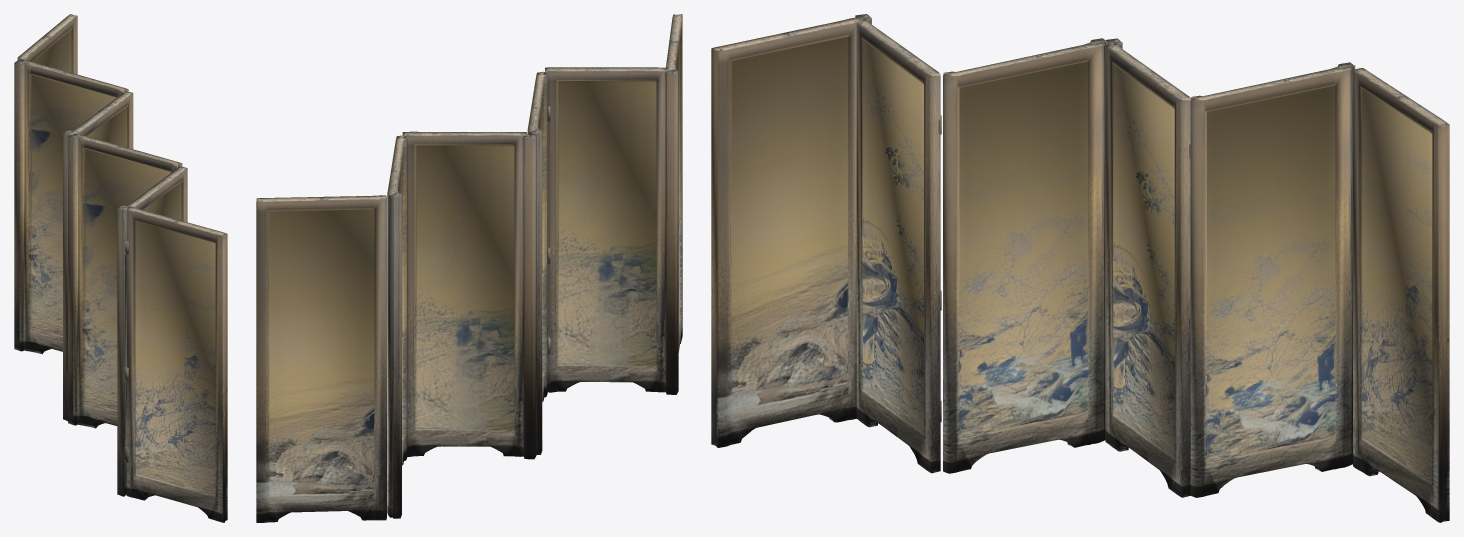
File: Screen 1.fbx
3 views of the same model, side by side, from view 1: azimuth 30°, elevation 25°; view 2: azimuth 150°, elevation 25°; view 3: azimuth 270°, elevation 25° (orthographic). The views are drawn at different scales.
Visible parts, largest first — view 1: part_00000014; view 2: part_00000014; view 3: part_00000014.
Part boxes in pixels (x1,y1,x2,y2): part_00000014: [14, 14, 227, 522]; part_00000014: [256, 14, 682, 522]; part_00000014: [711, 14, 1449, 522].
Bounding box in the file's own units: 0.3623 × 0.5918 × 1.
